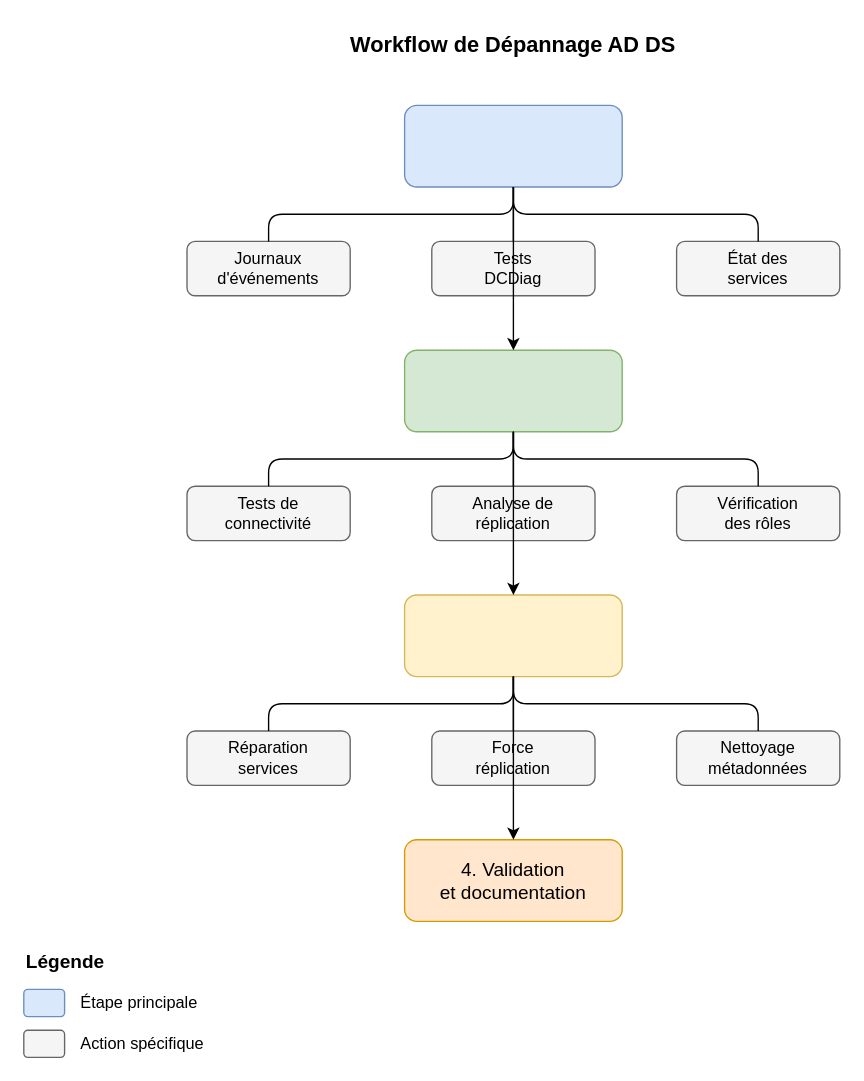
Some shapes in this 864 by 1081 pixel diagram are drawn without their labels. The shapes that lost their labels are listed below. From the top down, each one's centre as x and y in pixels, then its label:
At [512,145]: "1. Identification du problème".
At [512,390]: "2. Diagnostic approfondi".
At [512,635]: "3. Application des correctifs".
